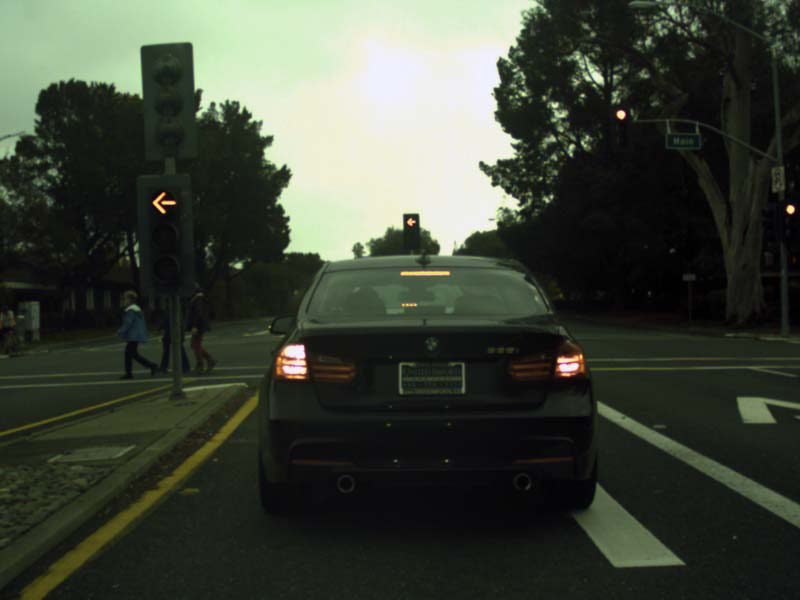Red: (137, 176, 194, 292), (609, 105, 634, 150), (403, 213, 420, 247)
